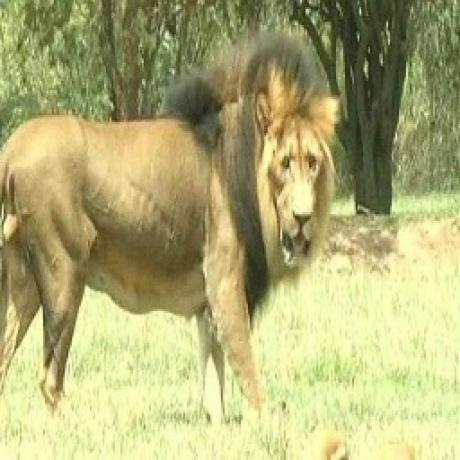Lion: (0, 26, 341, 425)
